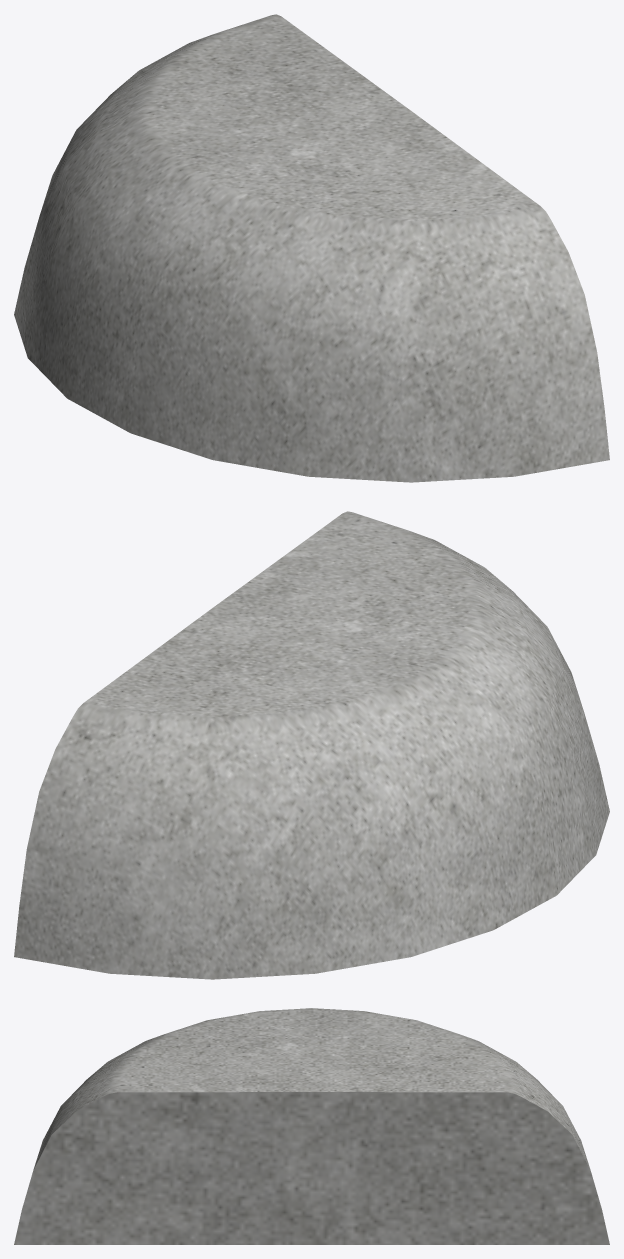
Rendered from SM_SJM_FoundationStoneE_01.fbx.
3 views of the same model, one above another, from view 1: azimuth 30°, elevation 25°; view 2: azimuth 150°, elevation 25°; view 3: azimuth 270°, elevation 25° (orthographic). The views are drawn at different scales.
Visible parts, largest first — view 1: SM_SJM_FoundationStoneE_01; view 2: SM_SJM_FoundationStoneE_01; view 3: SM_SJM_FoundationStoneE_01.
Boxes of the visible parts, x1=… form: SM_SJM_FoundationStoneE_01: x1=14, y1=14, x2=609, y2=482; SM_SJM_FoundationStoneE_01: x1=14, y1=511, x2=609, y2=979; SM_SJM_FoundationStoneE_01: x1=14, y1=1008, x2=609, y2=1244.
Size of the model in its own units: 43.43 by 86.85 by 24.57.
1 material, 1 textured.
